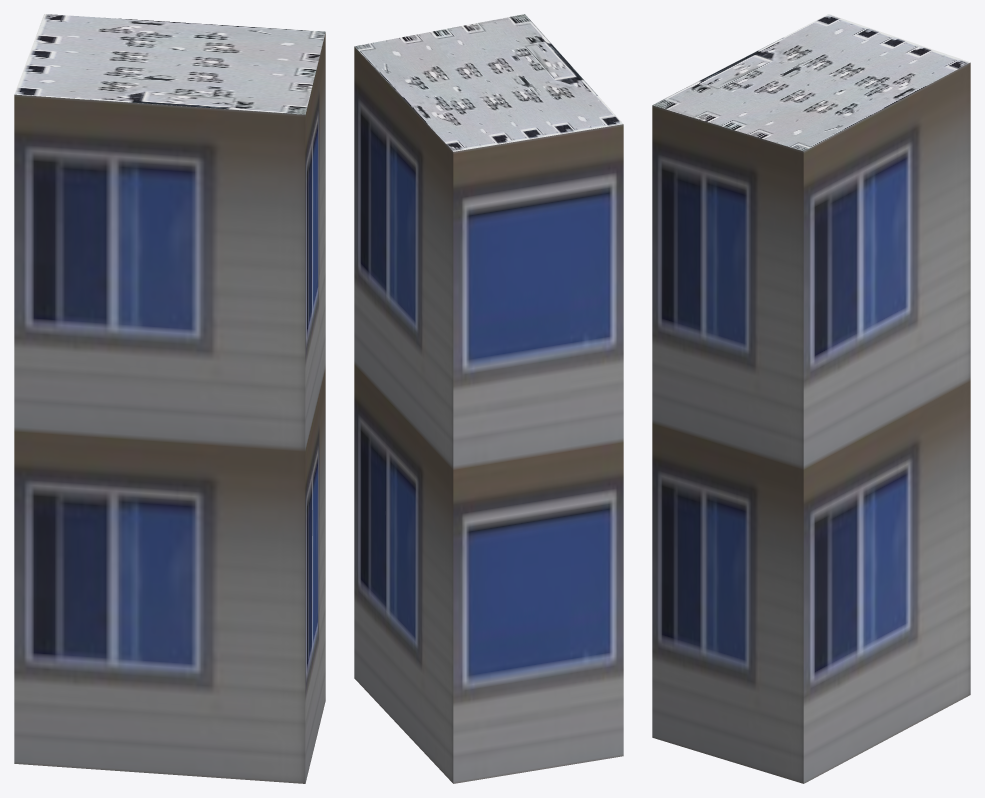
File: ResTex__1244.fbx
3 renders of one model, left to right at view 1: azimuth 30°, elevation 25°; view 2: azimuth 150°, elevation 25°; view 3: azimuth 270°, elevation 25°, orthographic. The views are drawn at different scales.
Parts seen in each view (by area): view 1: CityEngineMaterial_23_m, CityEngineMaterial_2_m; view 2: CityEngineMaterial_23_m, CityEngineMaterial_2_m; view 3: CityEngineMaterial_23_m, CityEngineMaterial_2_m.
Boxes of the visible parts, bbox=[...] form: CityEngineMaterial_23_m: bbox=[14, 32, 325, 783]; CityEngineMaterial_2_m: bbox=[14, 14, 325, 114]; CityEngineMaterial_23_m: bbox=[354, 46, 623, 783]; CityEngineMaterial_2_m: bbox=[355, 14, 623, 151]; CityEngineMaterial_23_m: bbox=[652, 62, 970, 783]; CityEngineMaterial_2_m: bbox=[652, 14, 970, 151].
Bounding box in the file's own units: 2.8 × 6 × 2.74.
Materials: 2 (2 with a texture image).
